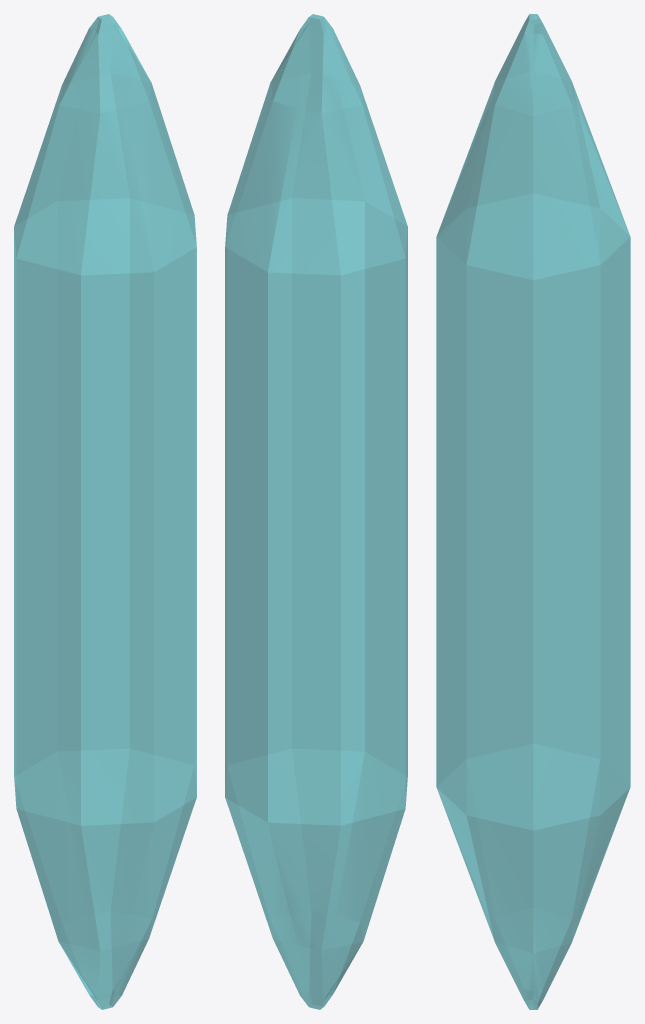
The model's file is RandomPos.fbx.
3 views of the same model, side by side, from view 1: azimuth 30°, elevation 25°; view 2: azimuth 150°, elevation 25°; view 3: azimuth 270°, elevation 25° (orthographic).
Parts seen in each view (by area): view 1: pCube1; view 2: pCube1; view 3: pCube1.
Part boxes in pixels (box(x1,y1,x2,y2)): pCube1: box(14, 14, 196, 1009); pCube1: box(225, 14, 407, 1009); pCube1: box(436, 14, 630, 1009).
Bounding box in the file's own units: 18.14 × 96.33 × 17.11.
